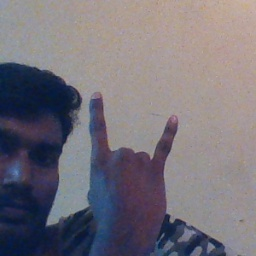V: (81, 86, 186, 241)
